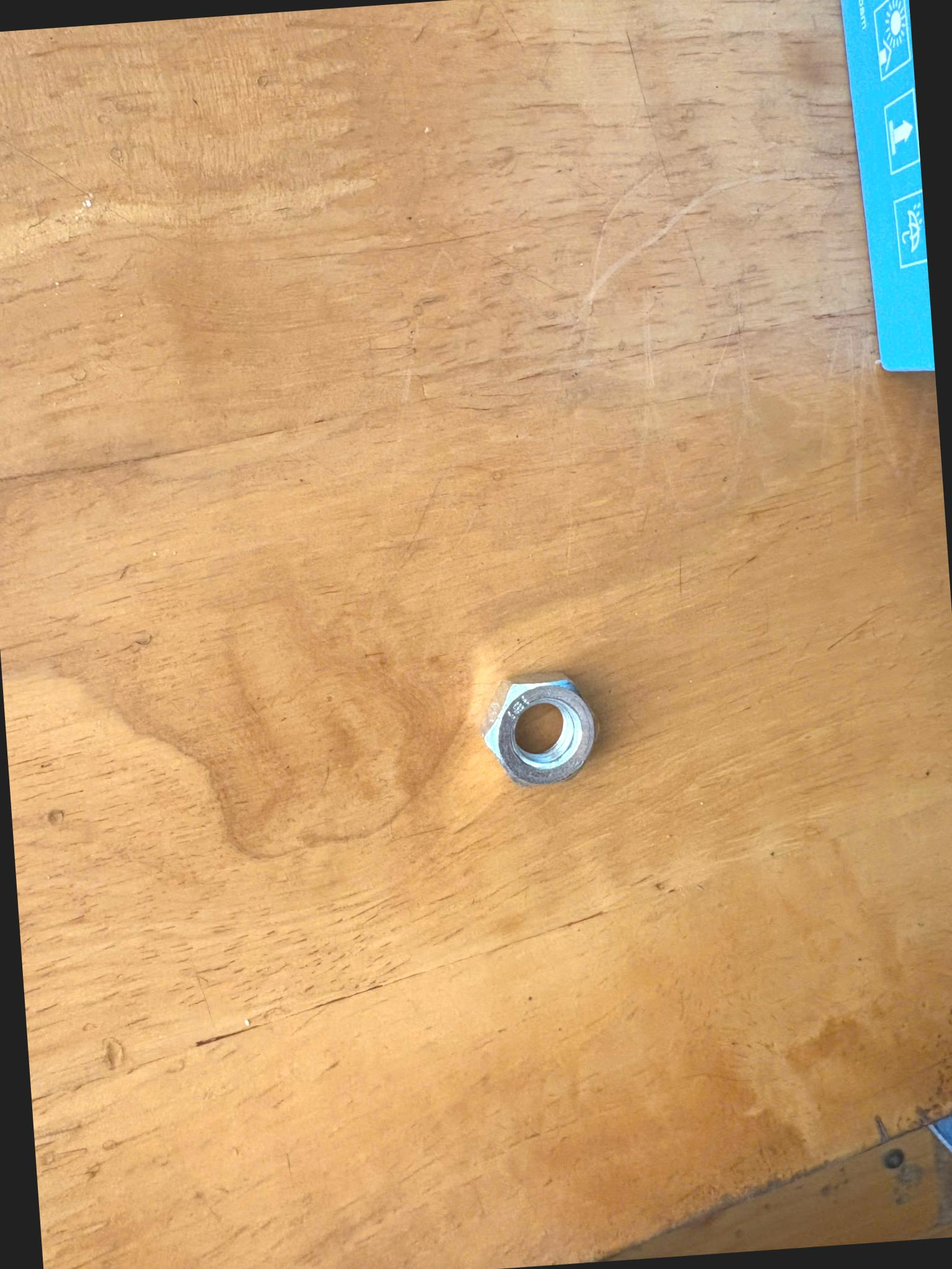nut: (477, 667, 597, 805)
